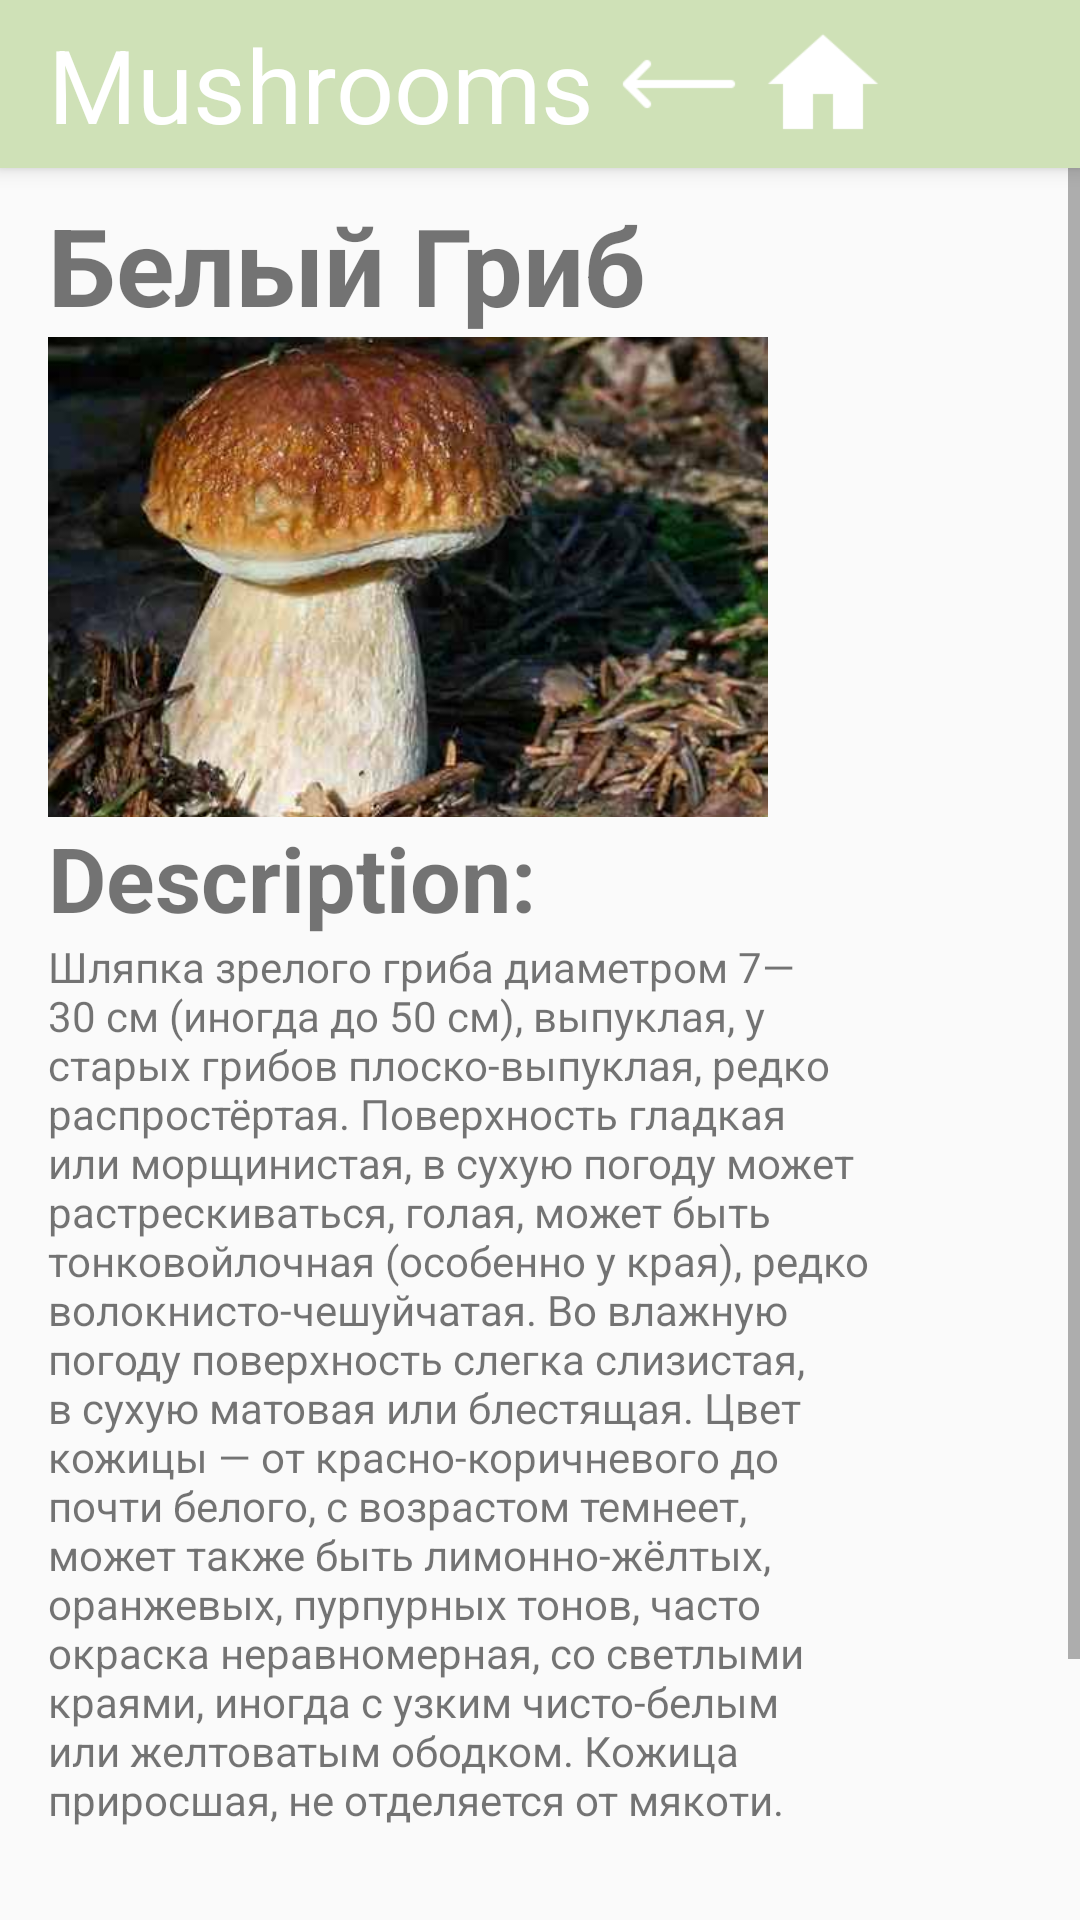

Locate icon controls on the screen. Image size 1080 x 1920, boxes as (x1, y1, x2, y2).
home: (768, 35, 878, 129)
long arrow left: (623, 60, 735, 108)
